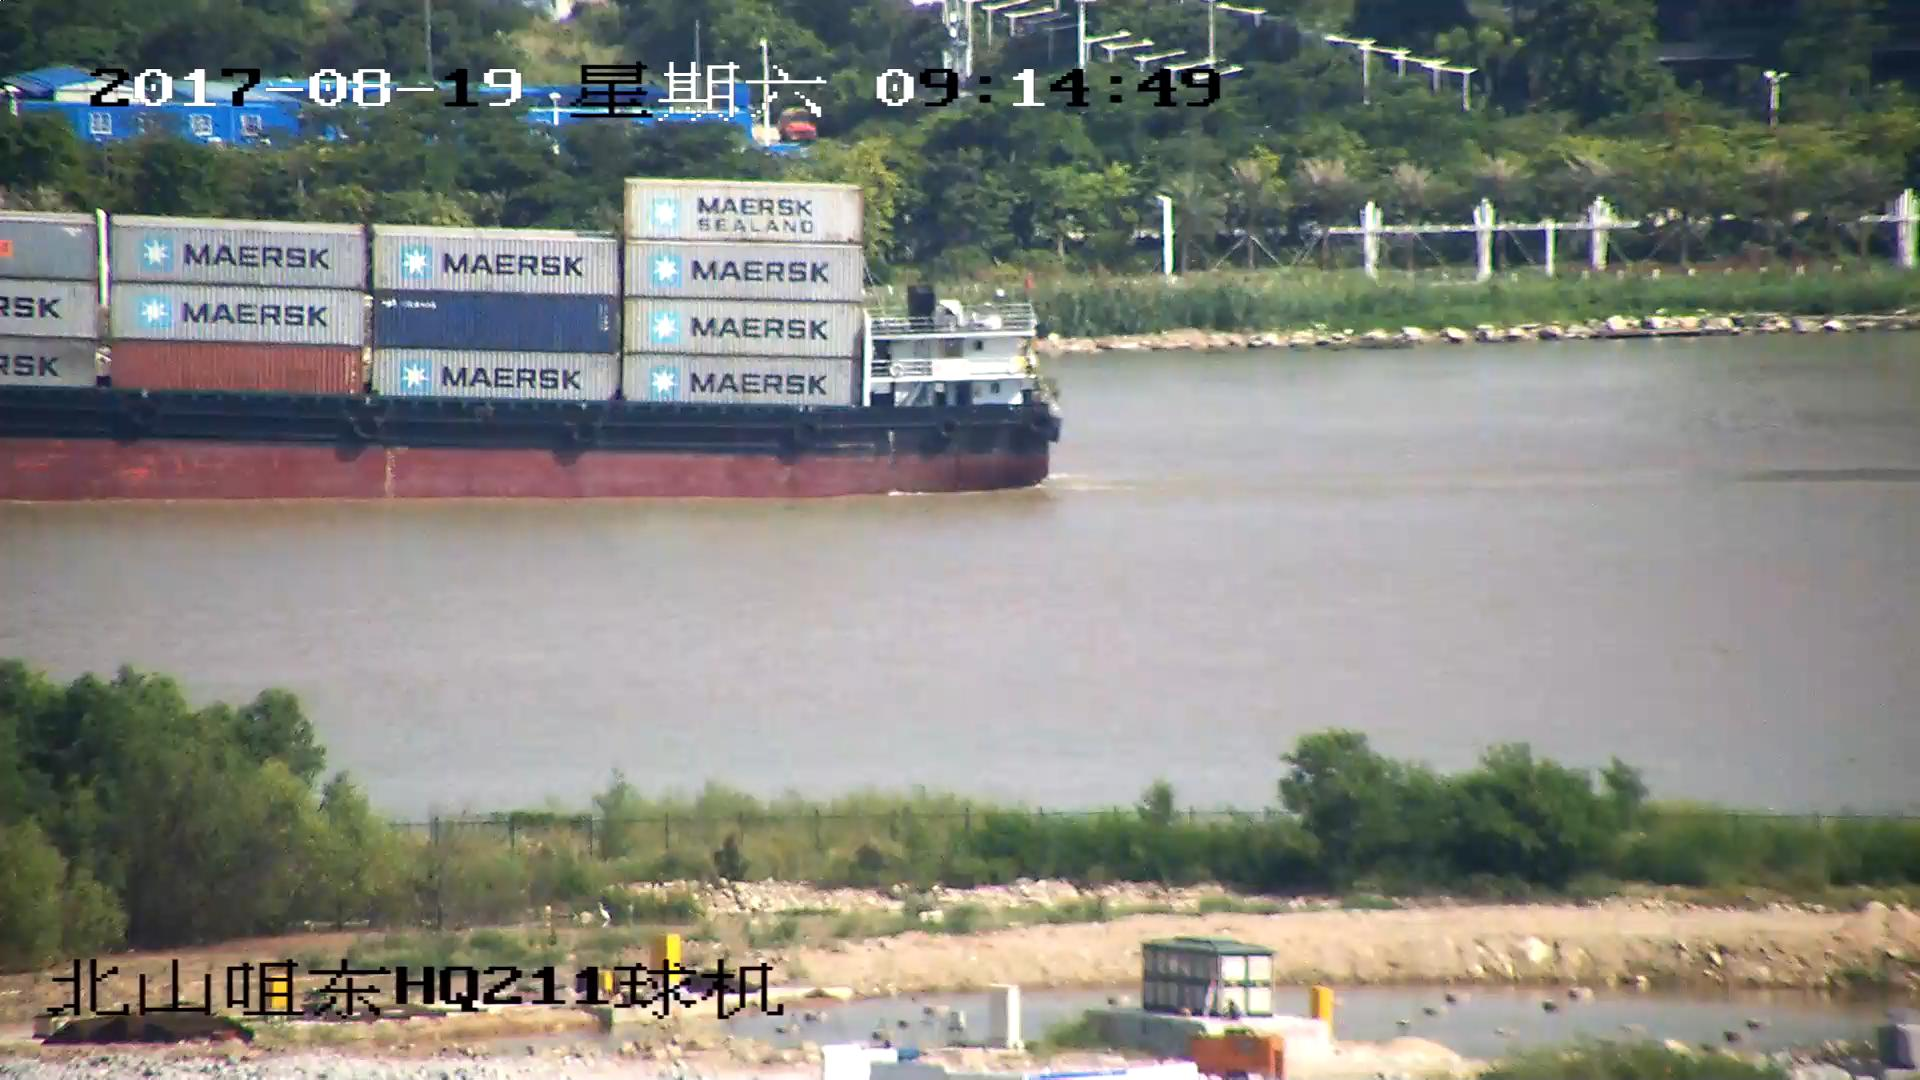container ship: (1, 174, 1063, 503)
